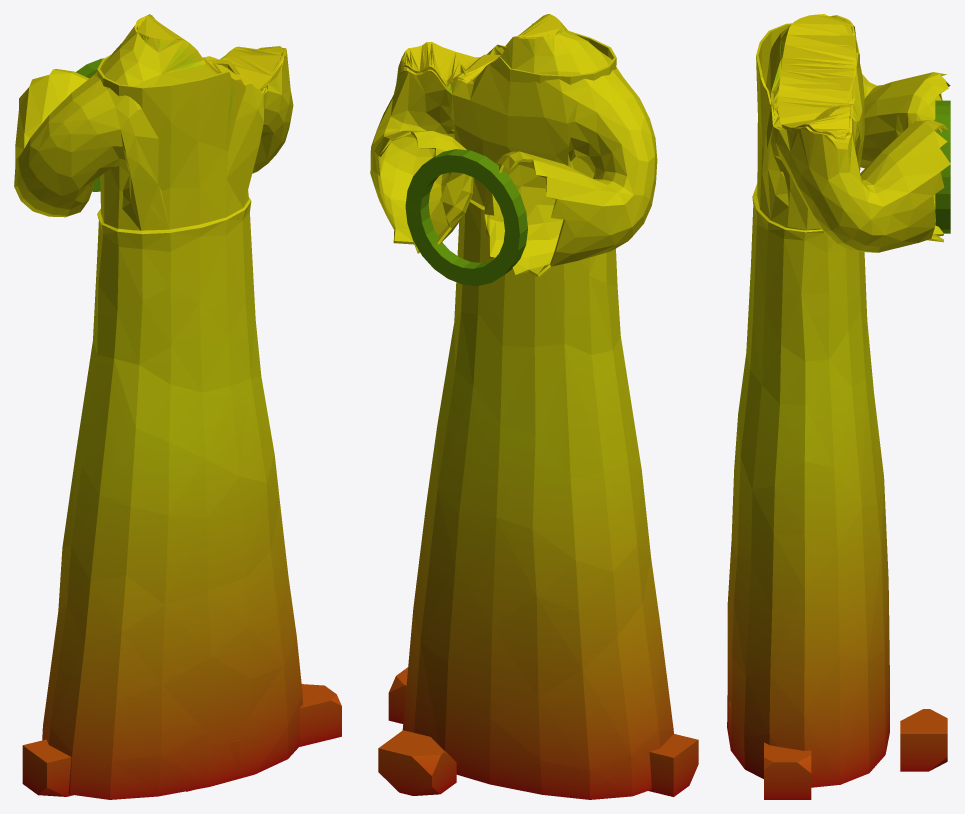
The model's file is statue_broken.glb.
3 views of the same model, side by side, from view 1: azimuth 30°, elevation 25°; view 2: azimuth 150°, elevation 25°; view 3: azimuth 270°, elevation 25° (orthographic). The views are drawn at different scales.
Parts seen in each view (by area): view 1: statue_broken; view 2: statue_broken; view 3: statue_broken.
Part boxes in pixels (x1=…): statue_broken: x1=14, y1=14, x2=341, y2=799; statue_broken: x1=370, y1=14, x2=698, y2=799; statue_broken: x1=727, y1=14, x2=950, y2=799.
Size of what is drawn, in the model's own units: 1.73 by 4.17 by 1.2.
